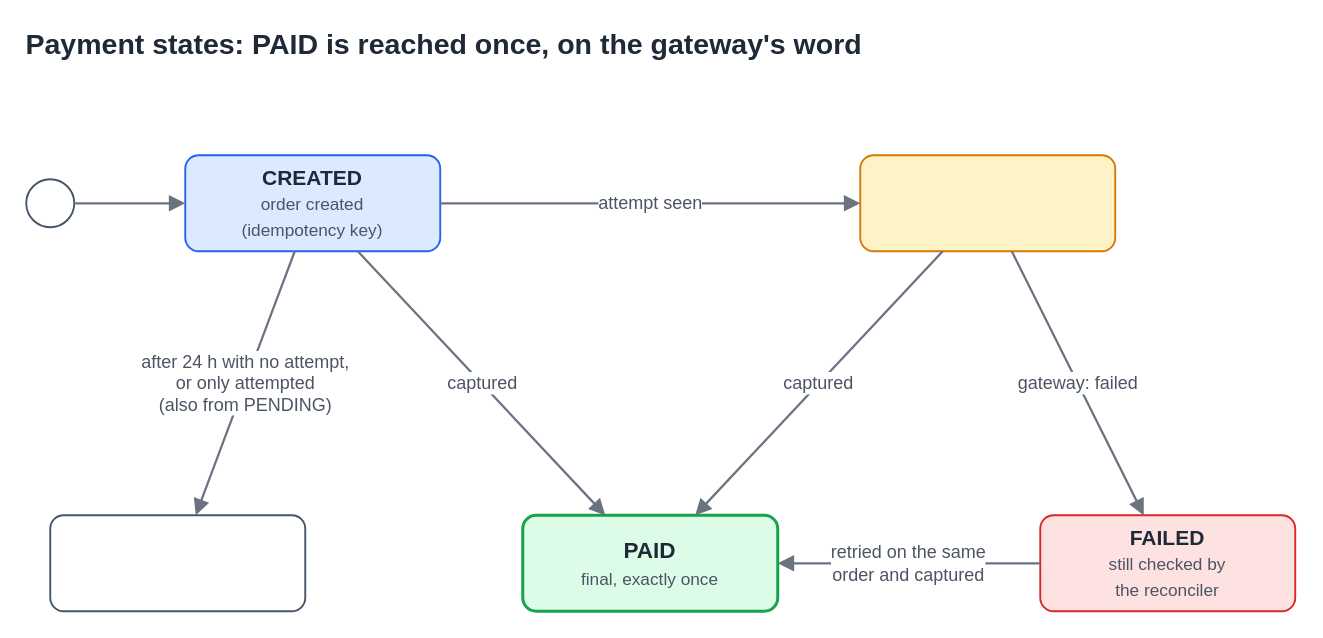
The diagram is 1323 pixels wide and 638 high, and some of its shapes have lost their labels. The shapes that lost their labels are listed below. From the top down, each one's centre as x and y in pixels, then its label:
At pixel 987 203: "PENDING attempted or authorised, not captured yet".
At pixel 177 563: "EXPIRED final".
